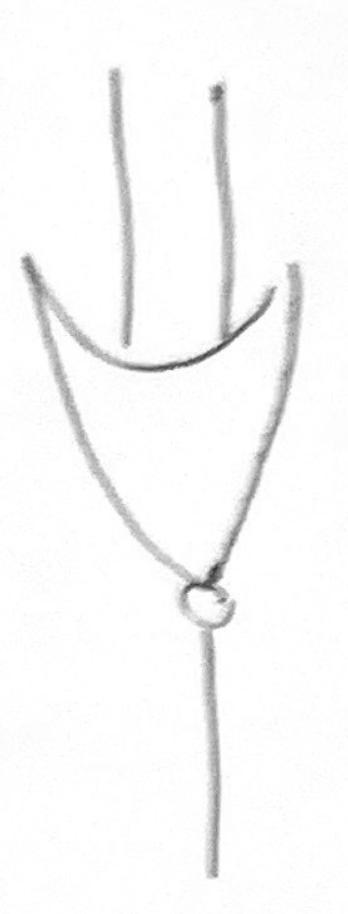NOR: (5, 233, 324, 654)
